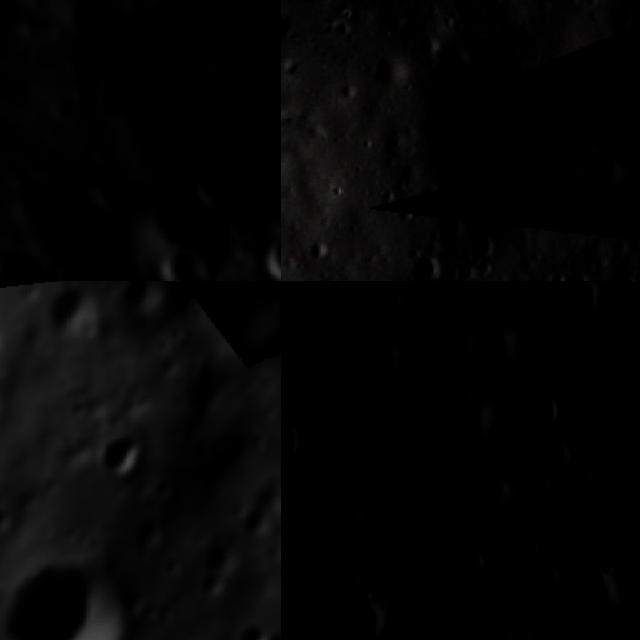crater: (358, 12, 600, 260), (0, 538, 158, 640), (304, 345, 408, 452), (146, 182, 226, 281), (194, 281, 281, 363), (281, 519, 355, 614), (554, 554, 631, 636), (174, 353, 250, 430), (35, 281, 114, 354), (86, 418, 160, 492), (538, 281, 621, 342), (323, 580, 403, 640), (467, 316, 535, 386), (578, 147, 640, 213), (281, 403, 321, 494), (446, 398, 504, 456), (107, 281, 178, 323), (432, 318, 481, 373), (468, 470, 516, 524), (588, 30, 639, 79), (0, 250, 78, 281), (524, 391, 572, 439), (560, 450, 604, 497), (90, 174, 140, 214), (454, 545, 499, 589), (584, 496, 624, 544), (529, 556, 567, 596), (540, 438, 574, 476), (524, 471, 560, 506), (231, 616, 281, 640), (265, 225, 281, 281), (509, 618, 543, 640)
